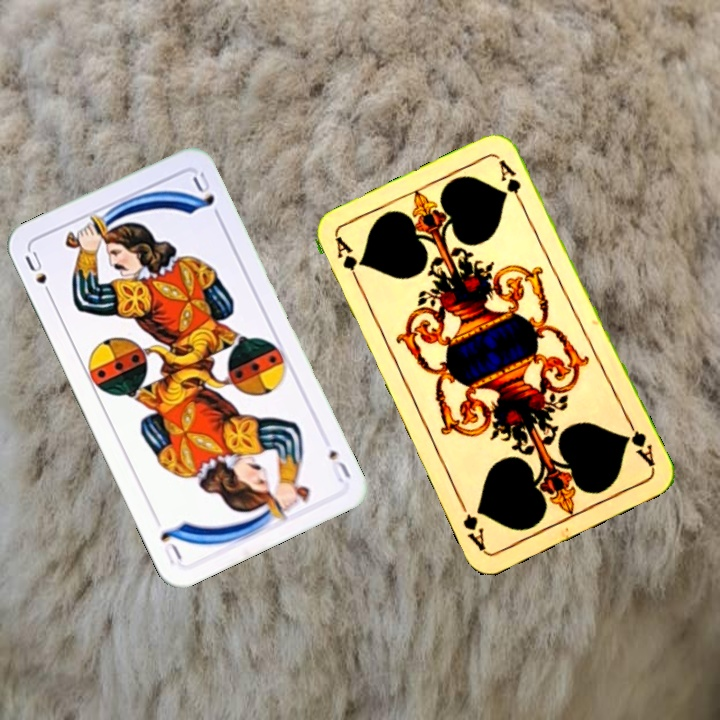GA: (620, 415, 658, 470), (331, 233, 364, 290)
SU: (20, 247, 56, 302), (324, 445, 354, 484)
